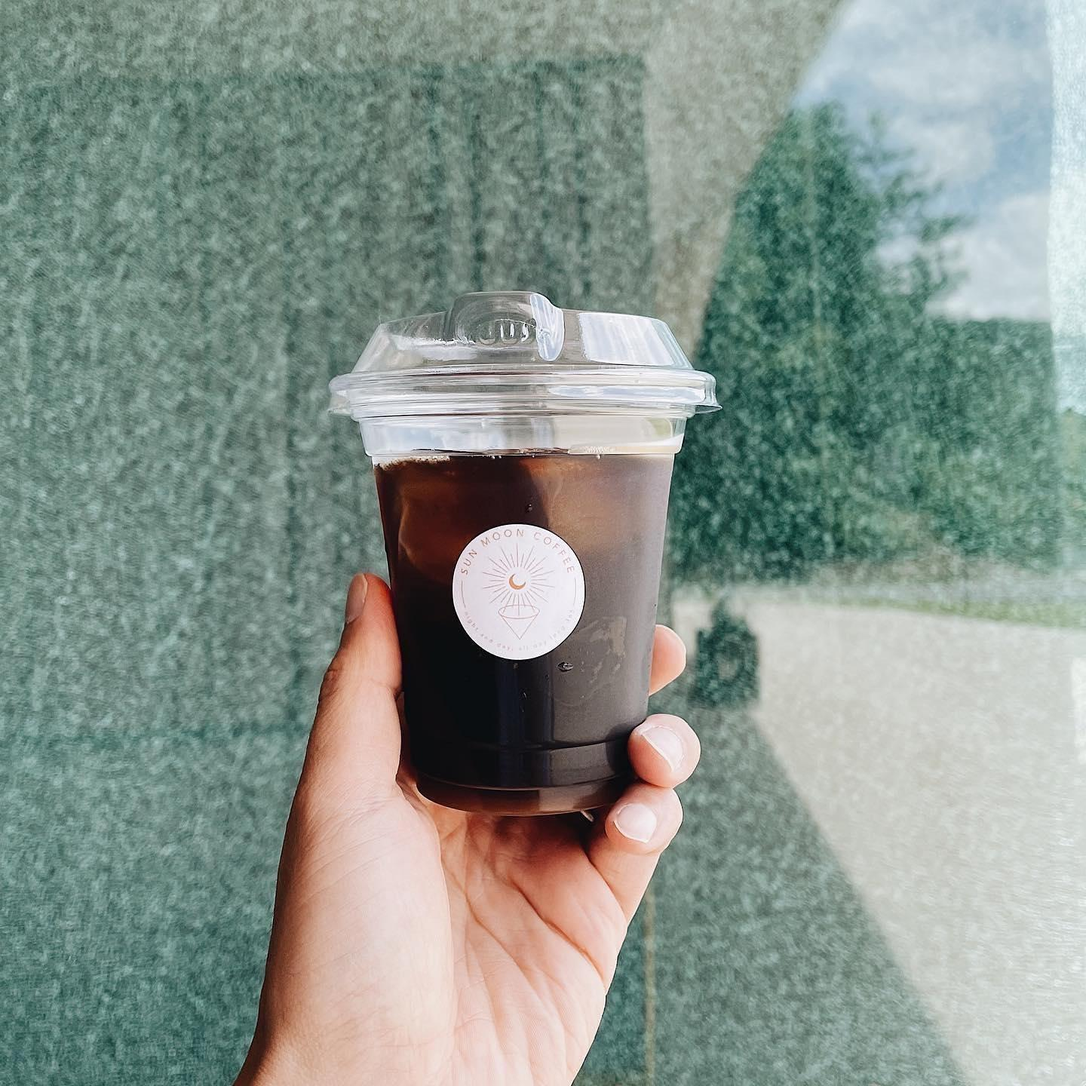cup-disposable: (318, 284, 722, 827)
